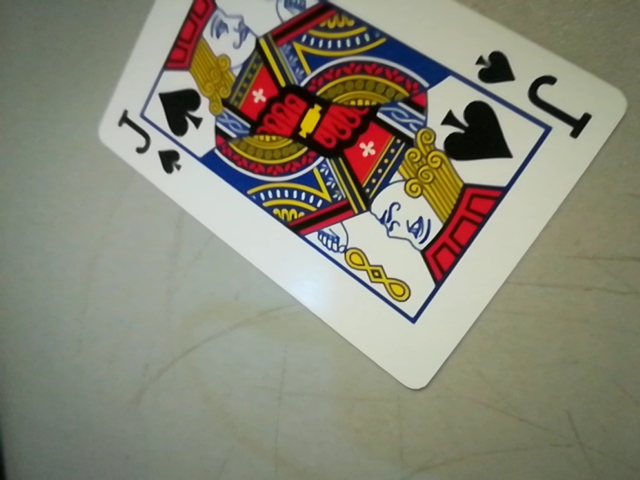ht j: (461, 45, 608, 143)
